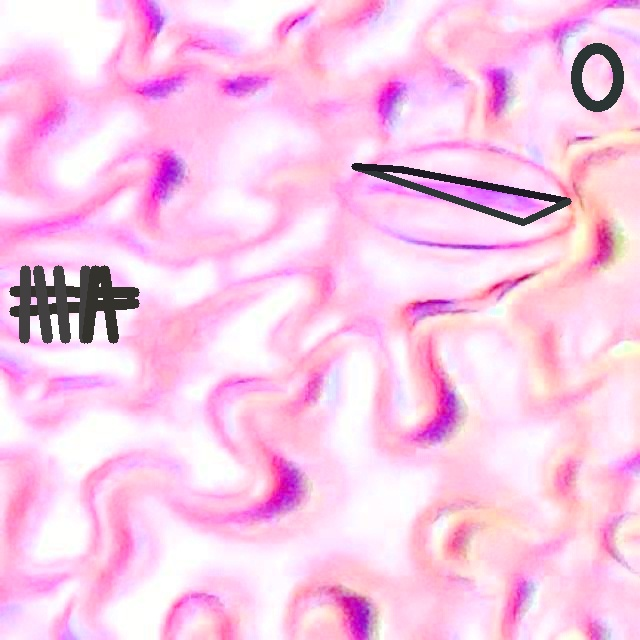close: (9, 266, 138, 343), (571, 43, 623, 111)
open: (351, 166, 571, 225)
